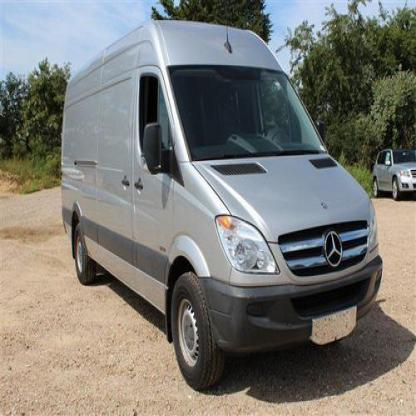Vehicle: (60, 17, 385, 395)
